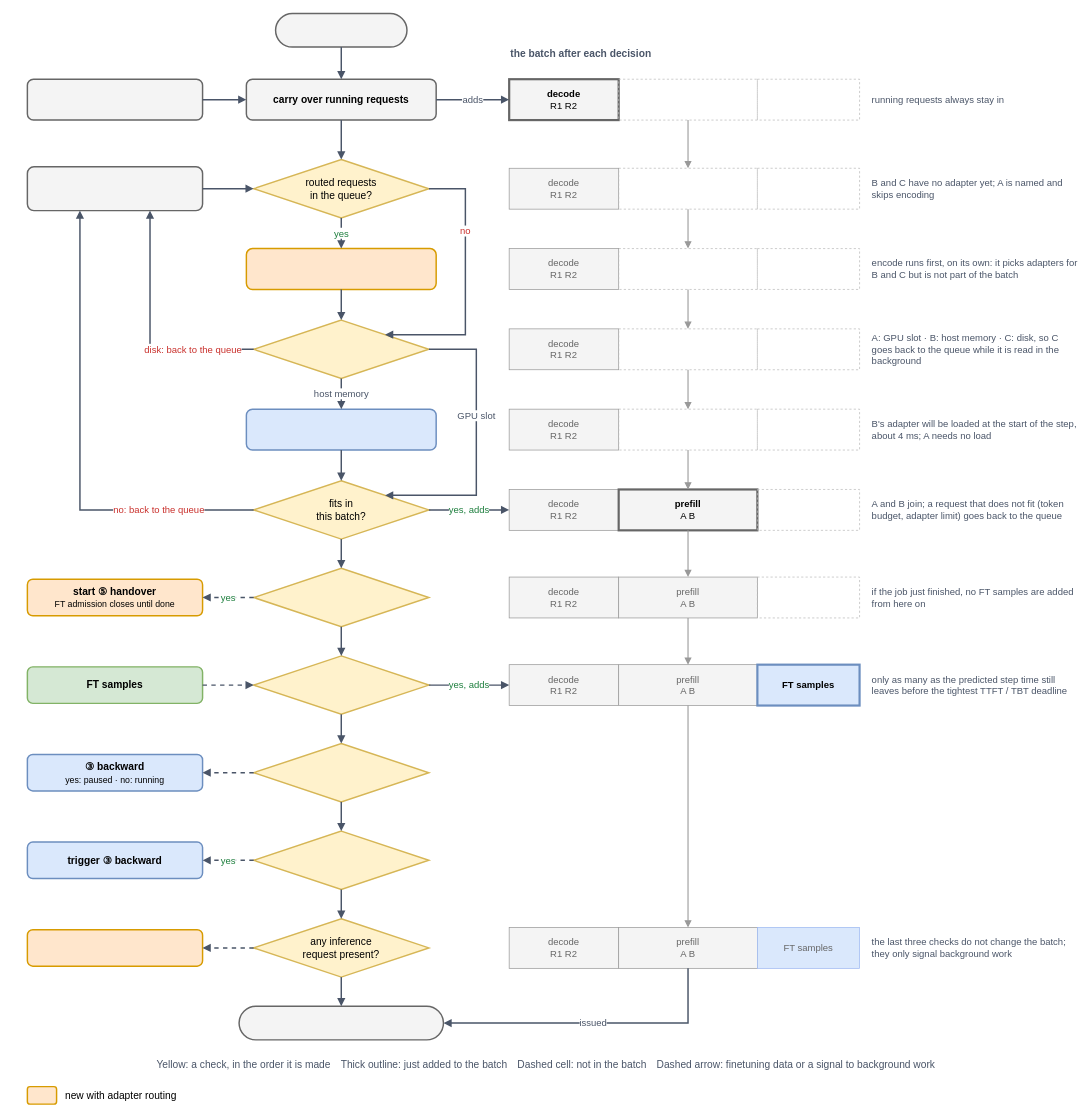
Image size: 1091x1118. Some labels were removed from this diagram. Here are the shapes that lost their labels. From the top down, the centre of each, then its label:
the point at 340,29: next step
the point at 114,99: running requests R1 · R2
the point at 114,188: request queue A named · B, C routed
the point at 341,268: ① encode , pick the adapter
the point at 341,349: adapter location?
the point at 341,429: load the adapter into a GPU slot
the point at 341,597: job finished training?
the point at 341,685: FT admission open, SLO slack left?
the point at 341,772: encode or prefill in this step?
the point at 341,860: FT buffer full?
the point at 114,948: ④ indexing yes: CPU · no: GPU
the point at 341,1022: issue ② forward engine batch
